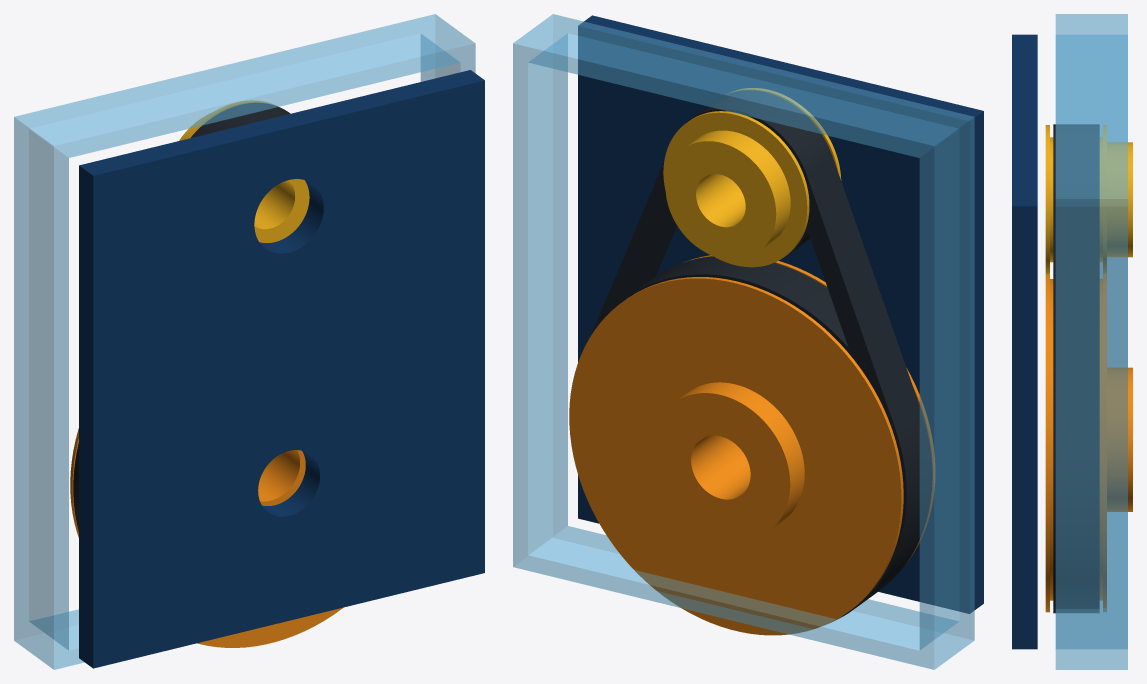
Rendered from LD-25K_candidate.glb.
3 renders of one model, left to right at view 1: azimuth 30°, elevation 25°; view 2: azimuth 150°, elevation 25°; view 3: azimuth 270°, elevation 25°, orthographic. The views are drawn at different scales.
Visible parts, largest first — view 1: SLOTTED_CARRIER_PLATE, REMOVABLE_GUARD_ENVELOPE, MISUMI_OUTPUT_PULLEY_ENVELOPE, MISUMI_MOTOR_PULLEY_ENVELOPE, MISUMI_EV5GT_BELT_ROUTING_ENVELOPE; view 2: REMOVABLE_GUARD_ENVELOPE, MISUMI_OUTPUT_PULLEY_ENVELOPE, SLOTTED_CARRIER_PLATE, MISUMI_EV5GT_BELT_ROUTING_ENVELOPE, MISUMI_MOTOR_PULLEY_ENVELOPE; view 3: REMOVABLE_GUARD_ENVELOPE, MISUMI_EV5GT_BELT_ROUTING_ENVELOPE, SLOTTED_CARRIER_PLATE, MISUMI_OUTPUT_PULLEY_ENVELOPE, MISUMI_MOTOR_PULLEY_ENVELOPE.
Part boxes in pixels (left/top/right/bottom): SLOTTED_CARRIER_PLATE: left=79, top=70, right=484, bottom=668; REMOVABLE_GUARD_ENVELOPE: left=14, top=14, right=475, bottom=669; MISUMI_OUTPUT_PULLEY_ENVELOPE: left=70, top=428, right=343, bottom=647; MISUMI_MOTOR_PULLEY_ENVELOPE: left=179, top=100, right=309, bottom=242; MISUMI_EV5GT_BELT_ROUTING_ENVELOPE: left=73, top=103, right=290, bottom=531; REMOVABLE_GUARD_ENVELOPE: left=513, top=14, right=974, bottom=669; MISUMI_OUTPUT_PULLEY_ENVELOPE: left=569, top=255, right=934, bottom=635; SLOTTED_CARRIER_PLATE: left=578, top=15, right=983, bottom=613; MISUMI_EV5GT_BELT_ROUTING_ENVELOPE: left=590, top=90, right=931, bottom=623; MISUMI_MOTOR_PULLEY_ENVELOPE: left=663, top=88, right=841, bottom=267; REMOVABLE_GUARD_ENVELOPE: left=1055, top=14, right=1127, bottom=669; MISUMI_EV5GT_BELT_ROUTING_ENVELOPE: left=1053, top=124, right=1099, bottom=613; SLOTTED_CARRIER_PLATE: left=1012, top=34, right=1037, bottom=649; MISUMI_OUTPUT_PULLEY_ENVELOPE: left=1045, top=274, right=1132, bottom=612; MISUMI_MOTOR_PULLEY_ENVELOPE: left=1045, top=125, right=1132, bottom=274.
Size of the model in its own units: 85 by 105 by 23.5.
